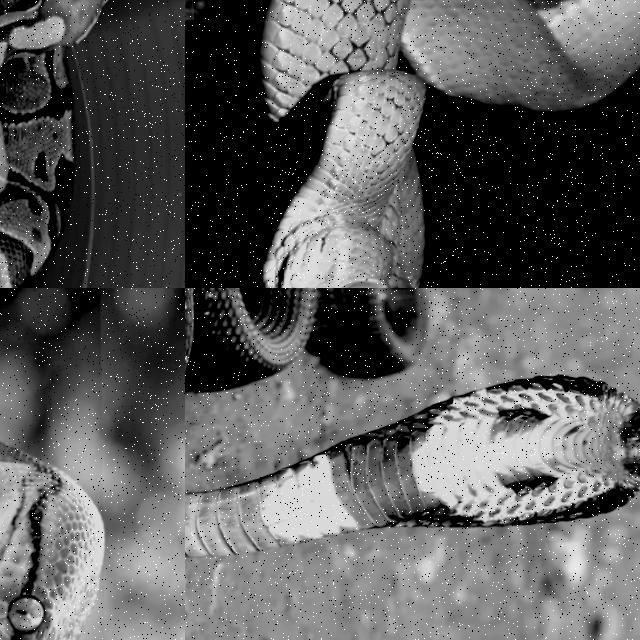Malayopython reticulatus: (0, 444, 103, 639)
Ophiophagus hannah: (185, 375, 639, 557)
Python bivittatus: (0, 0, 106, 287)
Trimeresurus macrops: (255, 0, 639, 287)
